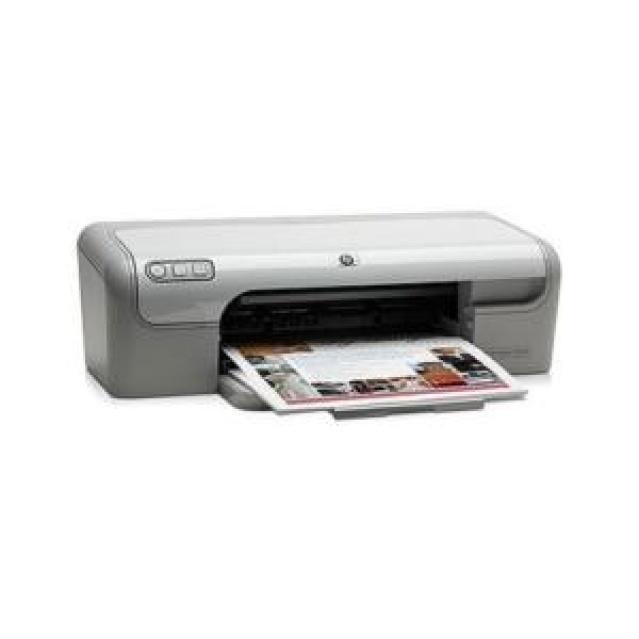Printer: (77, 210, 561, 420)
